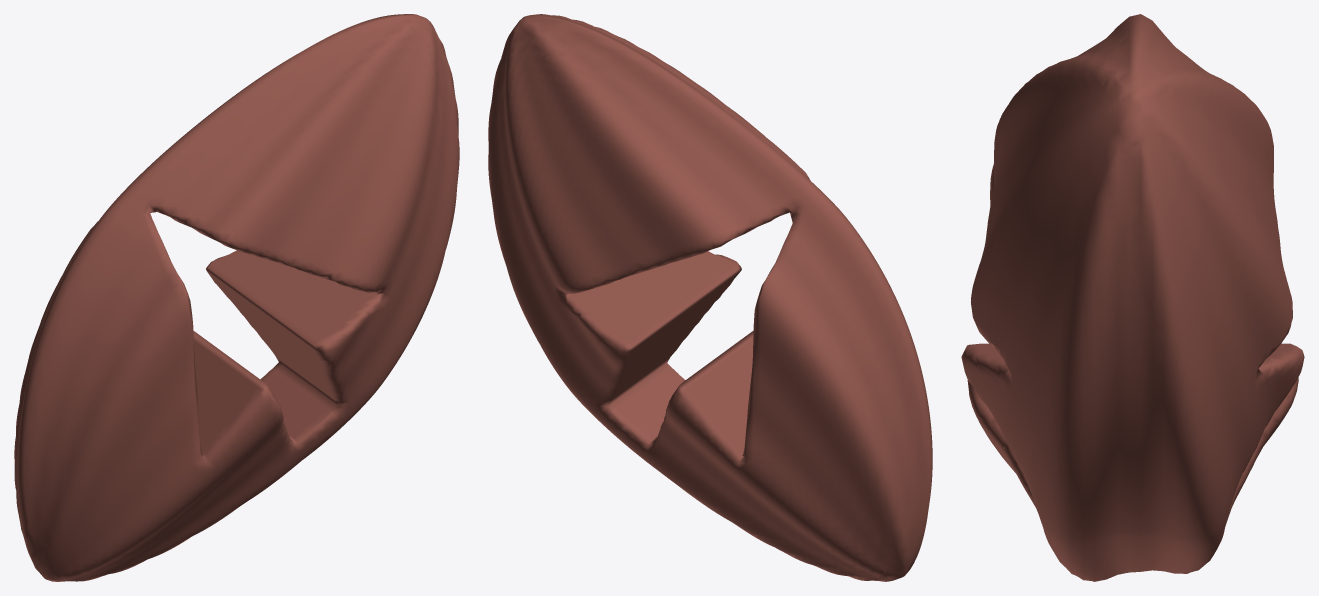
The model's file is bitter-cacao.glb.
3 views of the same model, side by side, from view 1: azimuth 30°, elevation 25°; view 2: azimuth 150°, elevation 25°; view 3: azimuth 270°, elevation 25° (orthographic). The views are drawn at different scales.
Parts seen in each view (by area): view 1: Cacao pointer; view 2: Cacao pointer; view 3: Cacao pointer.
Boxes of the visible parts, x1,y1,x2,y2 form: Cacao pointer: (14,14,459,581); Cacao pointer: (488,14,932,581); Cacao pointer: (961,14,1304,581).
Bounding box in the file's own units: 2.1 × 2.25 × 0.9813.
